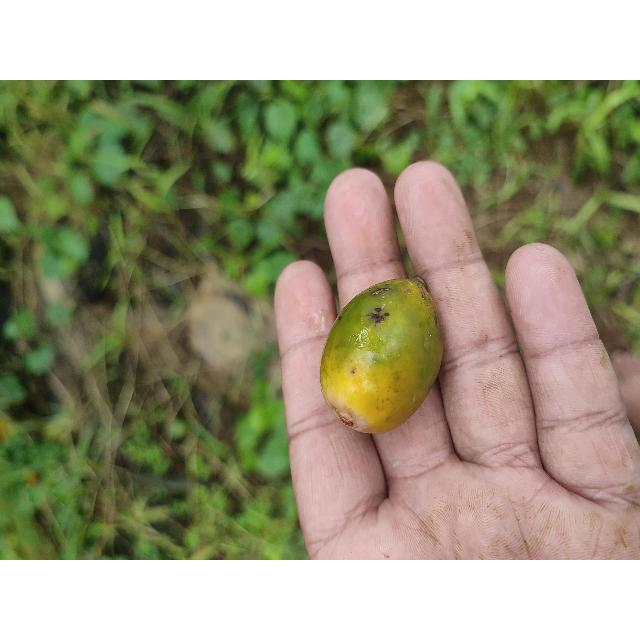good: (318, 278, 445, 436)
